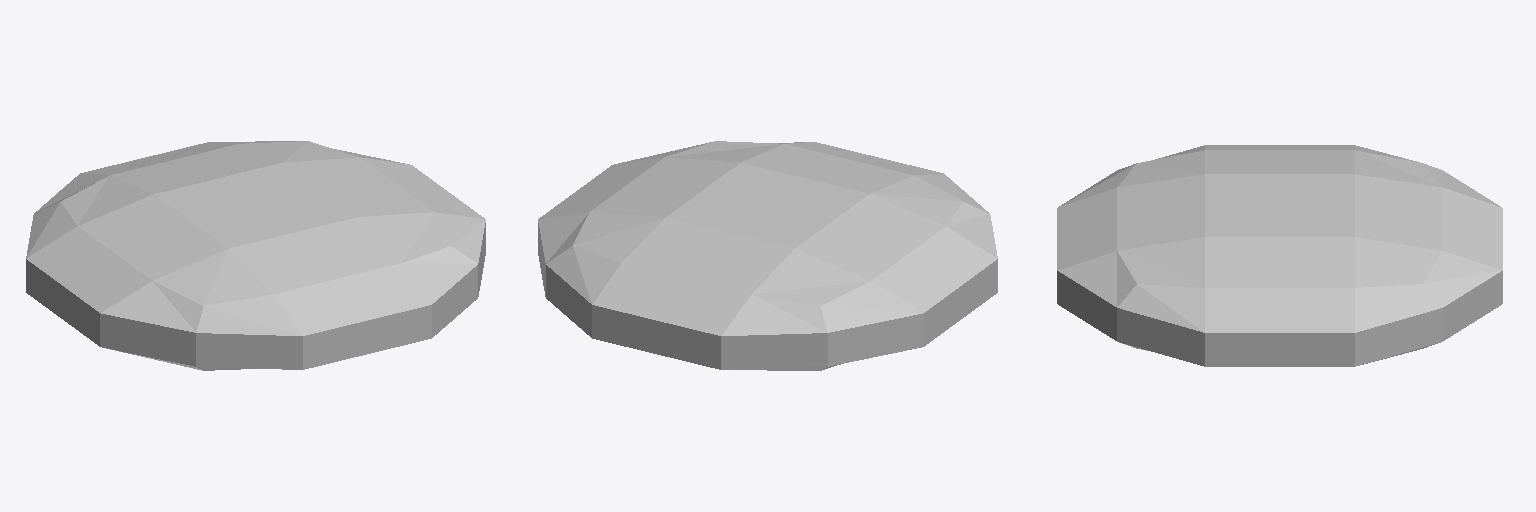
The model's file is testSkyBox.obj.
3 views of the same model, side by side, from view 1: azimuth 30°, elevation 25°; view 2: azimuth 150°, elevation 25°; view 3: azimuth 270°, elevation 25° (orthographic).
Visible parts, largest first — view 1: Cube; view 2: Cube; view 3: Cube.
Part boxes in pixels (x1,y1,x2,y2): Cube: (26, 141, 485, 370); Cube: (538, 141, 997, 370); Cube: (1057, 145, 1502, 366).
Bounding box in the file's own units: 82.24 × 20.56 × 82.24.